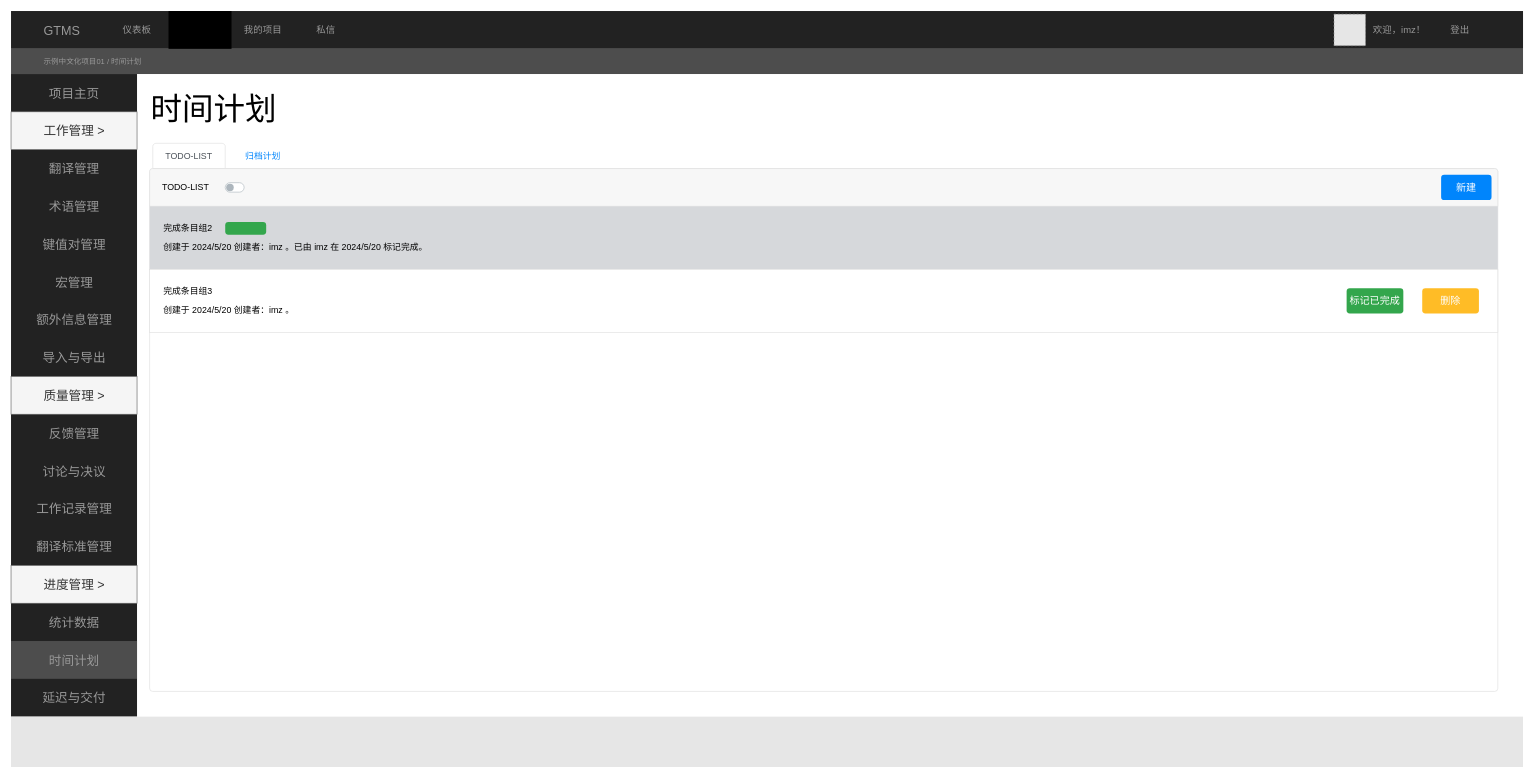
This 1534x777 diagram has some shape labels left out. Grey dashed boxes stand in for pictures. The centre of each missing label's shape, as x and y in pixels:
Yifan Xu 毕业设计 @天津工业大学: the point at 767,741
只显示未完成: the point at 234,187
已完成: the point at 245,228
项目浏览: the point at 199,30
